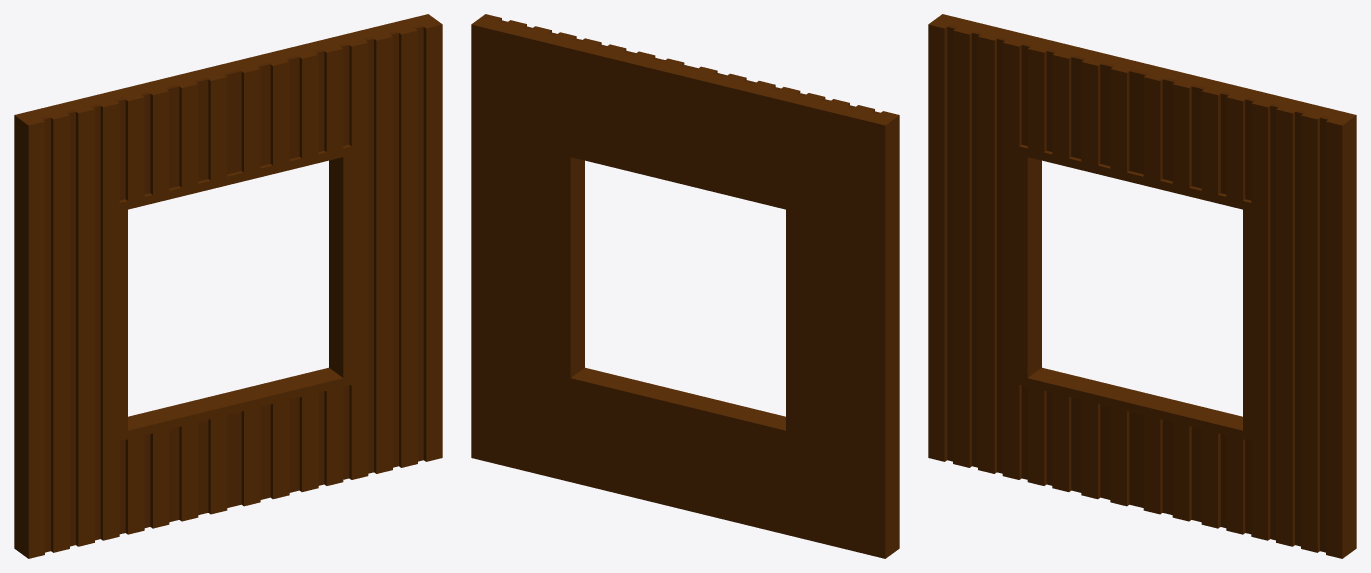
File: Wall_Window.obj
3 renders of one model, left to right at view 1: azimuth 30°, elevation 25°; view 2: azimuth 150°, elevation 25°; view 3: azimuth 330°, elevation 25°, orthographic.
Bounding box in the file's own units: 10 × 10 × 0.6.
Materials: 1 (1 with a texture image).
